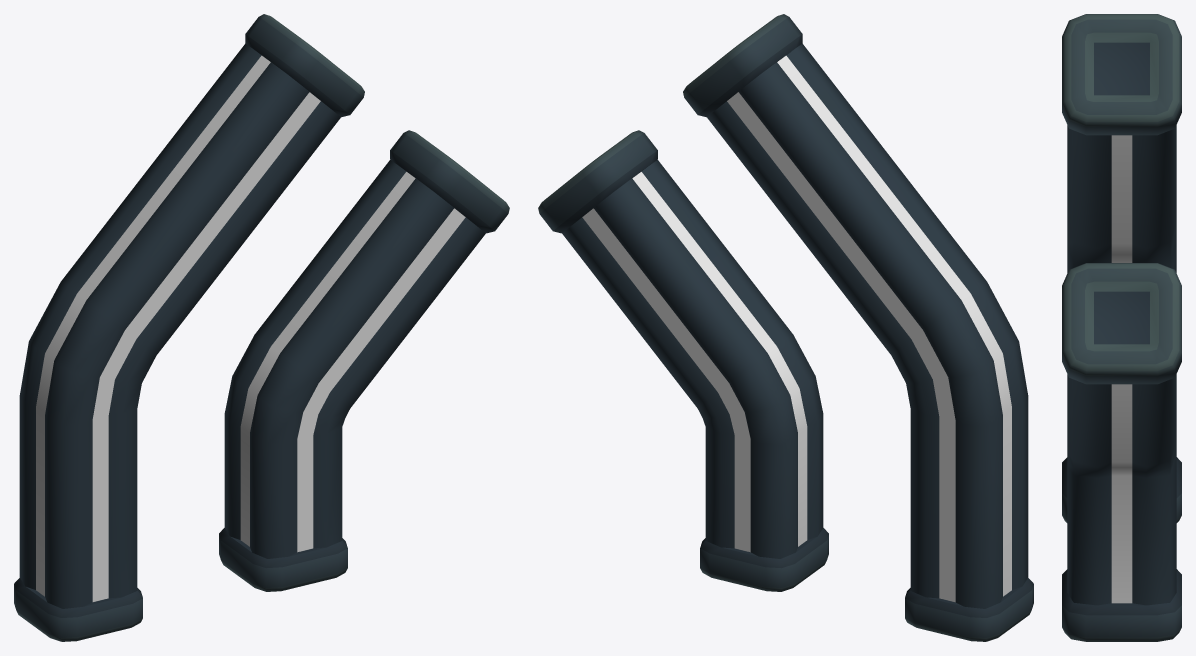
Rendered from Track_Vertical_Gold_DiaTurn.fbx.
The picture shows the model from 3 angles, left to right: view 1: azimuth 30°, elevation 25°; view 2: azimuth 150°, elevation 25°; view 3: azimuth 270°, elevation 25°; orthographic projection. The views are drawn at different scales.
Visible parts, largest first — view 1: Track_Vertical_Gold_DiaTurn_LOD0; view 2: Track_Vertical_Gold_DiaTurn_LOD0; view 3: Track_Vertical_Gold_DiaTurn_LOD0.
Boxes of the visible parts, left/top/right/bottom form: Track_Vertical_Gold_DiaTurn_LOD0: left=14, top=14, right=509, bottom=641; Track_Vertical_Gold_DiaTurn_LOD0: left=538, top=14, right=1033, bottom=641; Track_Vertical_Gold_DiaTurn_LOD0: left=1062, top=14, right=1181, bottom=641.
Size of what is drawn, in the model's own units: 1.12 by 1.26 by 0.2263.
